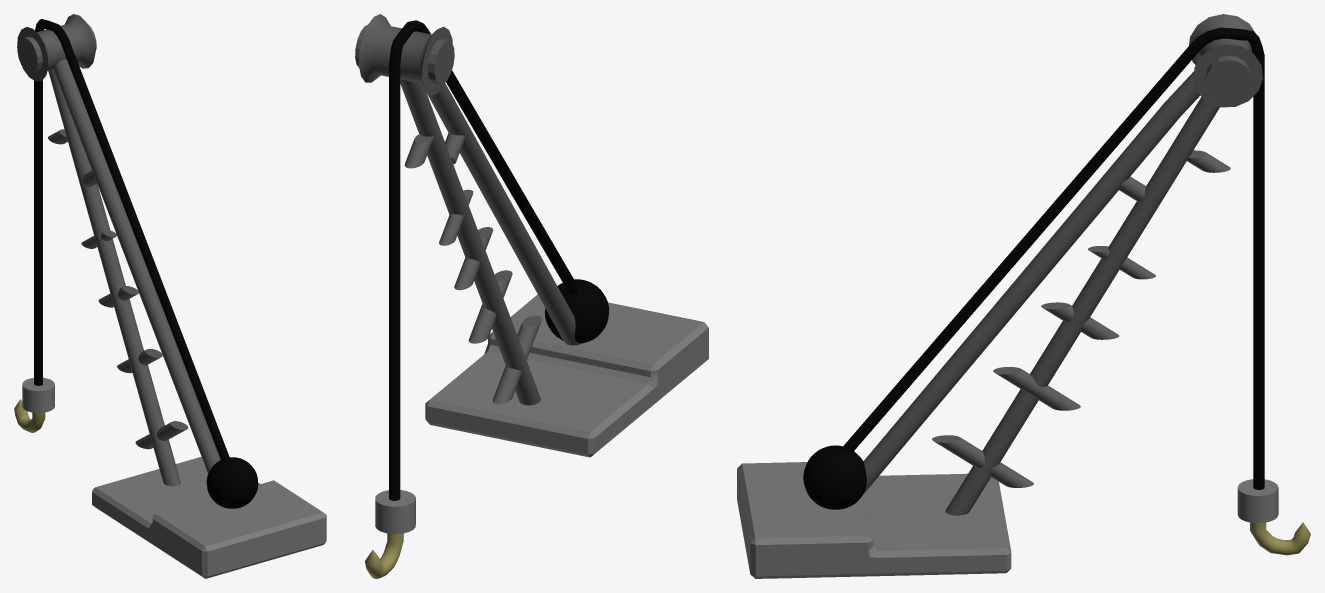
Rendered from Crane.FBX.
The picture shows the model from 3 angles, left to right: view 1: azimuth 30°, elevation 25°; view 2: azimuth 150°, elevation 25°; view 3: azimuth 270°, elevation 25°; orthographic projection. The views are drawn at different scales.
Parts seen in each view (by area): view 1: pCube92, pasted__pCylinder4, pasted__pCylinder3, pCylinder9, pCylinder2, pCylinder8, pSphere1, pCylinder10, pCylinder7, pCylinder5; view 2: pCube92, pasted__pCylinder3, pasted__pCylinder4, pCylinder8, pCylinder2, pCylinder9, pCylinder10, pSphere1, pCylinder7, pCylinder5, pCylinder6, pCylinder3 (+1 smaller); view 3: pCube92, pasted__pCylinder4, pasted__pCylinder3, pCylinder9, pCylinder8, pCylinder2, pSphere1, pCylinder10, pCylinder7, pCylinder5, pCylinder6.
Part boxes in pixels (x1,y1,x2,y2): pCube92: (92, 456, 326, 578); pasted__pCylinder4: (53, 59, 220, 473); pasted__pCylinder3: (48, 69, 180, 486); pCylinder9: (43, 20, 229, 460); pCylinder2: (17, 14, 96, 81); pCylinder8: (34, 19, 47, 385); pSphere1: (206, 457, 258, 508); pCylinder10: (14, 377, 54, 432); pCylinder7: (135, 421, 188, 449); pCylinder5: (117, 349, 162, 373); pCube92: (425, 294, 708, 457); pasted__pCylinder3: (400, 79, 540, 405); pasted__pCylinder4: (426, 83, 581, 345); pCylinder8: (389, 32, 407, 500); pCylinder2: (355, 14, 454, 95); pCylinder9: (399, 20, 579, 294); pCylinder10: (365, 490, 415, 578); pSphere1: (544, 279, 609, 343); pCylinder7: (492, 315, 542, 404); pCylinder5: (468, 270, 512, 343); pCylinder6: (454, 227, 493, 290); pCylinder3: (404, 134, 434, 168); pCube92: (737, 462, 1011, 578); pasted__pCylinder4: (855, 71, 1199, 503); pasted__pCylinder3: (945, 97, 1219, 515); pCylinder9: (842, 27, 1241, 452); pCylinder8: (1241, 29, 1264, 489); pCylinder2: (1189, 14, 1262, 107); pSphere1: (803, 445, 866, 509); pCylinder10: (1237, 479, 1310, 555); pCylinder7: (932, 435, 1033, 487); pCylinder5: (993, 367, 1080, 410); pCylinder6: (1041, 302, 1119, 339).
Size of the model in its own units: 1.76 by 5.12 by 5.03.
